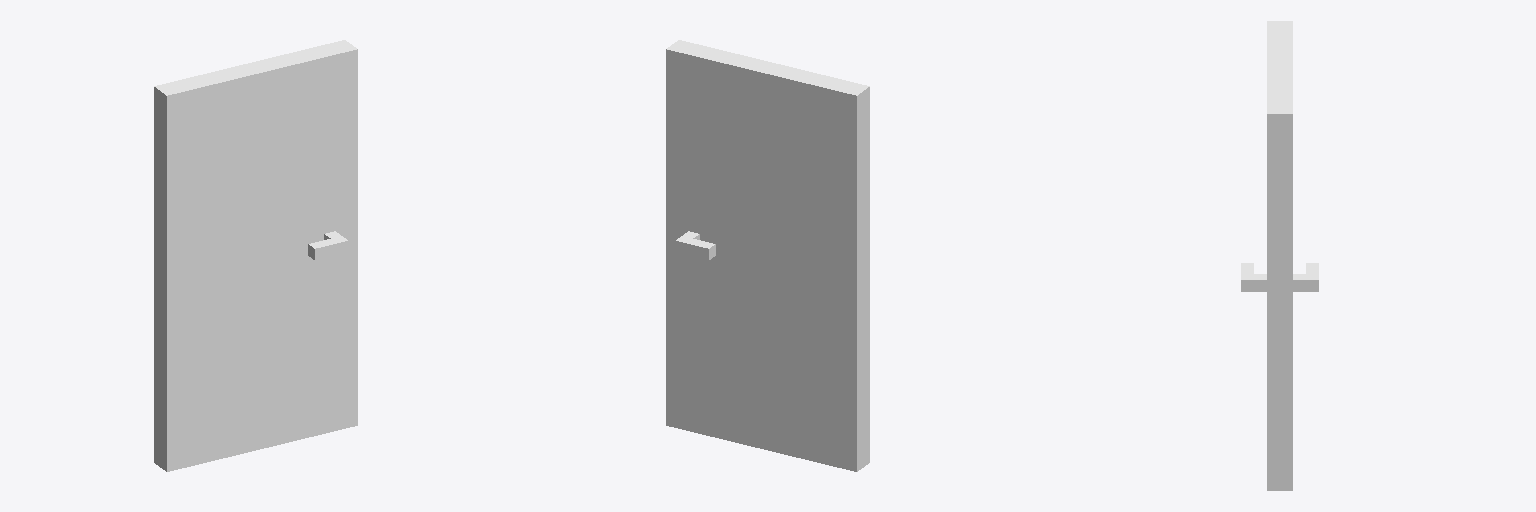
Rendered from Door.obj.
3 views of the same model, side by side, from view 1: azimuth 30°, elevation 25°; view 2: azimuth 150°, elevation 25°; view 3: azimuth 270°, elevation 25° (orthographic).
Visible parts, largest first — view 1: Door; view 2: Door; view 3: Door.
Part boxes in pixels (x1,y1,x2,y2): Door: (154, 40, 357, 471); Door: (666, 40, 869, 471); Door: (1241, 21, 1318, 490).
Bounding box in the file's own units: 17 × 32 × 6.